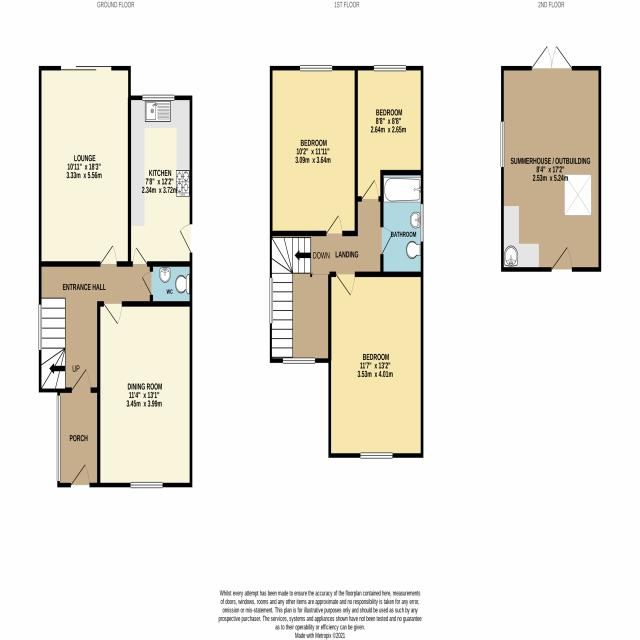DOOR: (335, 270, 356, 297), (71, 366, 92, 393), (70, 461, 90, 488), (103, 301, 123, 326), (360, 178, 379, 202), (380, 225, 394, 256), (179, 222, 192, 254), (326, 214, 343, 236), (100, 245, 117, 267), (132, 246, 148, 267), (141, 270, 153, 296)
ROOM: (39, 65, 131, 267), (96, 300, 193, 488), (328, 271, 424, 459), (270, 64, 358, 237), (128, 95, 193, 267), (354, 65, 424, 202)
SLIDING DOOR: (60, 65, 112, 71)
WINDOW: (56, 394, 61, 483), (129, 481, 164, 489), (373, 64, 407, 72), (360, 452, 393, 460), (142, 94, 175, 102), (300, 64, 332, 72), (282, 357, 316, 364), (269, 277, 273, 324), (38, 304, 42, 351), (420, 203, 424, 242)
